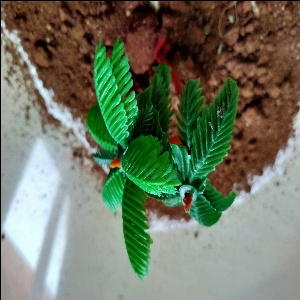plant: (84, 37, 243, 278)
